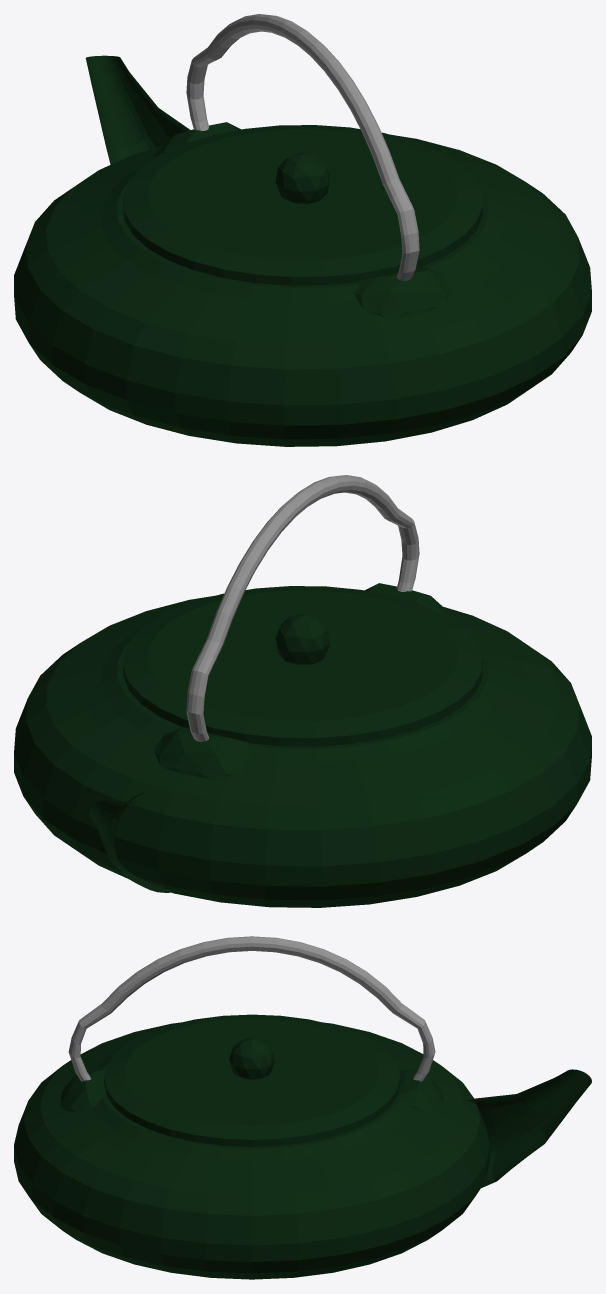
File: teapot.fbx
3 views of the same model, one above another, from view 1: azimuth 30°, elevation 25°; view 2: azimuth 150°, elevation 25°; view 3: azimuth 270°, elevation 25° (orthographic). The views are drawn at different scales.
Visible parts, largest first — view 1: Circle.001, Cylinder, Torus, Circle, Icosphere.001, Icosphere.002, Icosphere; view 2: Circle.001, Cylinder, Torus, Icosphere, Icosphere.002, Circle, Icosphere.001; view 3: Circle.001, Cylinder, Torus, Circle, Icosphere.002, Icosphere, Icosphere.001.
Part boxes in pixels (x1,y1,x2,y2): Circle.001: (14, 134, 591, 446); Cylinder: (123, 125, 482, 285); Torus: (186, 14, 419, 280); Circle: (85, 55, 190, 164); Icosphere.001: (354, 265, 451, 318); Icosphere.002: (275, 152, 330, 203); Icosphere: (154, 122, 241, 156); Circle.001: (14, 595, 591, 907); Cylinder: (123, 586, 482, 746); Torus: (186, 475, 419, 741); Icosphere: (154, 726, 251, 779); Icosphere.002: (275, 613, 330, 664); Circle: (89, 790, 186, 892); Icosphere.001: (364, 583, 451, 617); Circle.001: (14, 1022, 490, 1279); Cylinder: (104, 1014, 400, 1146); Torus: (68, 936, 435, 1081); Circle: (467, 1069, 591, 1187); Icosphere.002: (229, 1038, 274, 1079); Icosphere: (396, 1070, 443, 1112); Icosphere.001: (60, 1070, 107, 1112).
Size of the model in its own units: 310 by 195 by 377.
